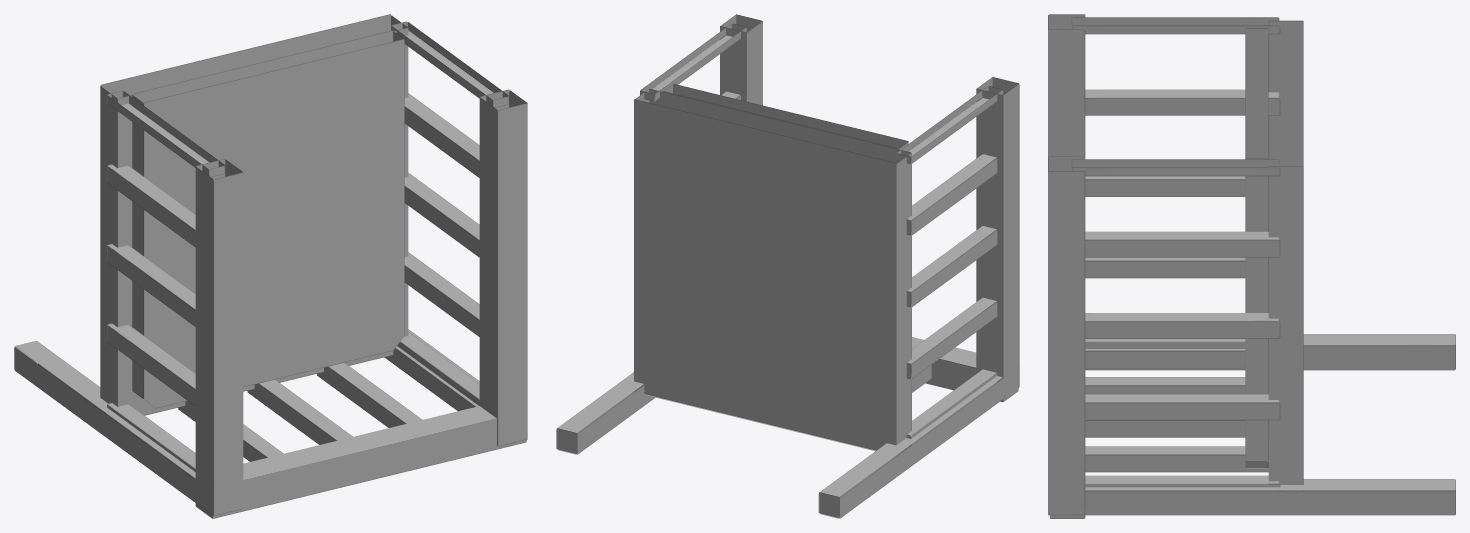
The model's file is pz_bed_bedding_01_oak_0_0.obj.
3 views of the same model, side by side, from view 1: azimuth 30°, elevation 25°; view 2: azimuth 150°, elevation 25°; view 3: azimuth 270°, elevation 25° (orthographic). The views are drawn at different scales.
Visible parts, largest first — view 1: root; view 2: root; view 3: root.
Part boxes in pixels (box(x1,y1,x2,y2)): root: box(14, 14, 527, 518); root: box(556, 14, 1019, 518); root: box(1048, 14, 1455, 518).
Bounding box in the file's own units: 0.95 × 0.985 × 1.04.
Materials: 1 (1 with a texture image).
